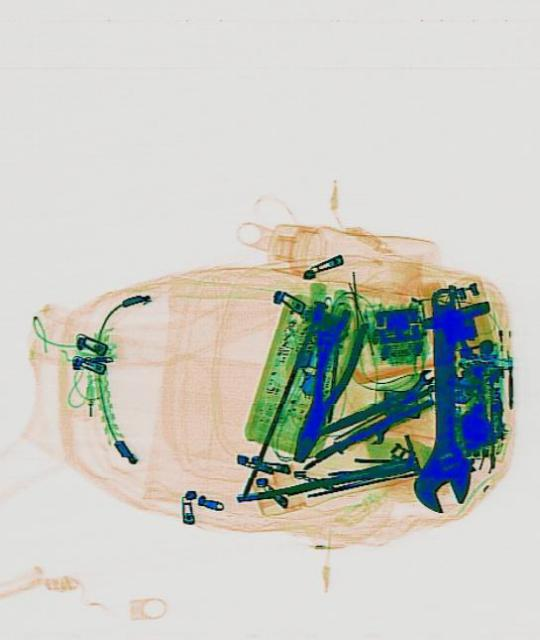Pliers: (277, 303, 373, 469)
Wrench: (411, 286, 472, 512), (363, 362, 436, 448)
